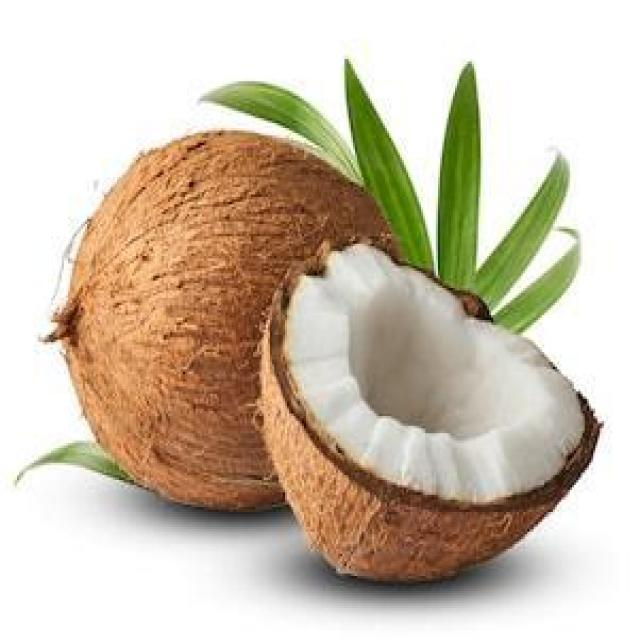coconut: (267, 267, 599, 578), (64, 127, 265, 514)
